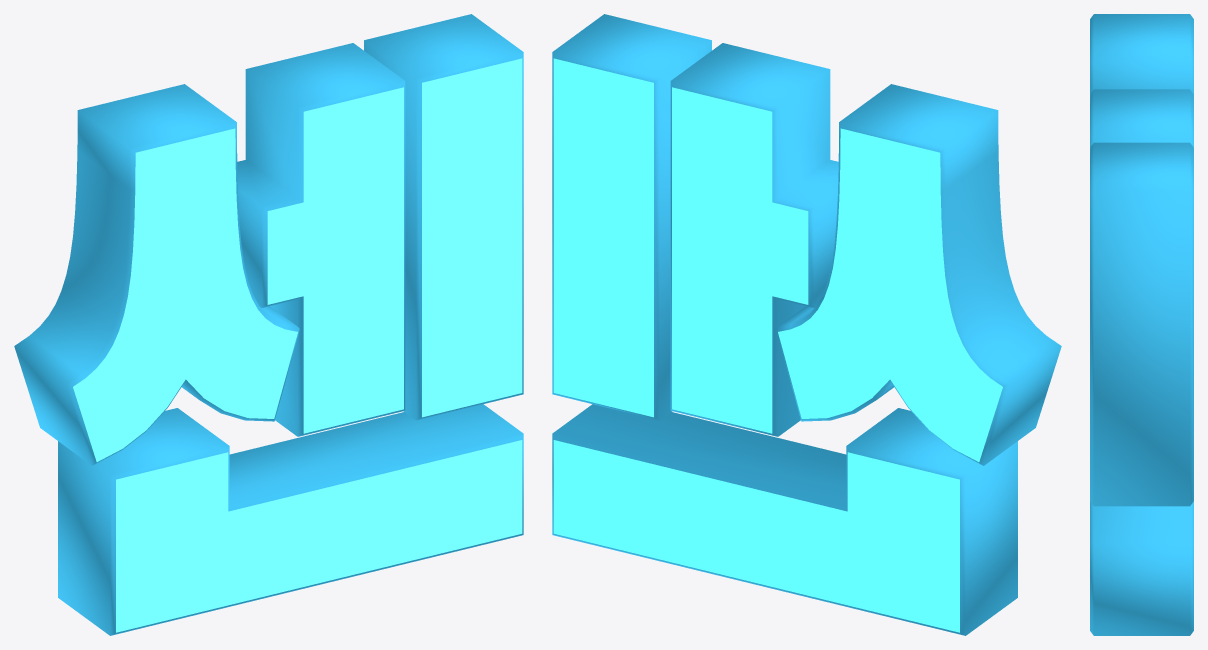
The picture shows the model from 3 angles, left to right: view 1: azimuth 30°, elevation 25°; view 2: azimuth 150°, elevation 25°; view 3: azimuth 270°, elevation 25°; orthographic projection. The views are drawn at different scales.
Visible parts, largest first — view 1: glyph; view 2: glyph; view 3: glyph.
Boxes of the visible parts, <box> form: glyph: <box>14,14,523,635</box>; glyph: <box>552,14,1061,635</box>; glyph: <box>1090,14,1193,635</box>.
Bounding box in the file's own units: 0.0759 × 0.0766 × 0.0162.
